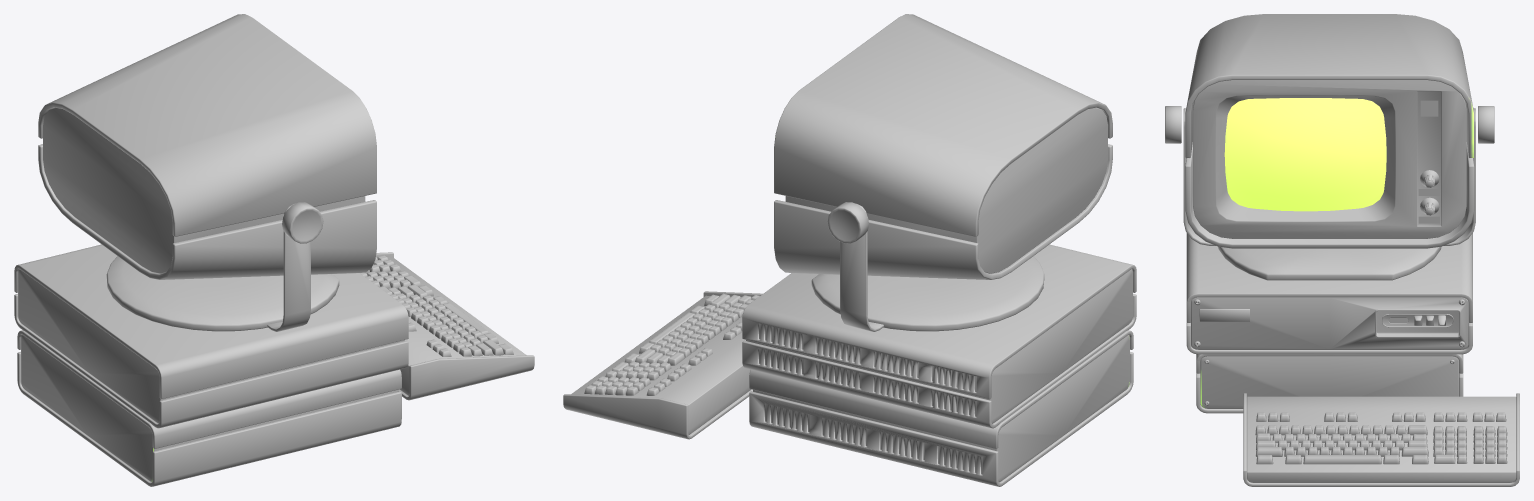
3 renders of one model, left to right at view 1: azimuth 30°, elevation 25°; view 2: azimuth 150°, elevation 25°; view 3: azimuth 270°, elevation 25°, orthographic. The views are drawn at different scales.
Parts seen in each view (by area): view 1: Cube.075; view 2: Cube.075; view 3: Cube.075.
Part boxes in pixels (left/top/right/bottom): Cube.075: left=14, top=14, right=534, bottom=486; Cube.075: left=563, top=14, right=1136, bottom=486; Cube.075: left=1165, top=14, right=1519, bottom=486.
Bounding box in the file's own units: 77.88 × 61.36 × 60.88.
